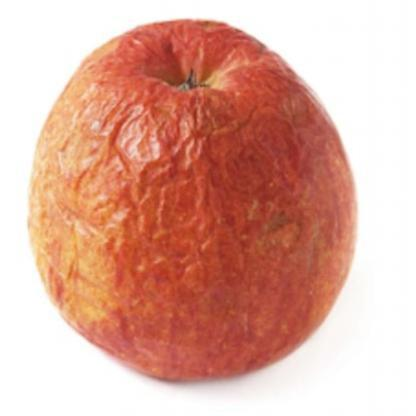apple_rotten: (24, 8, 368, 392)
